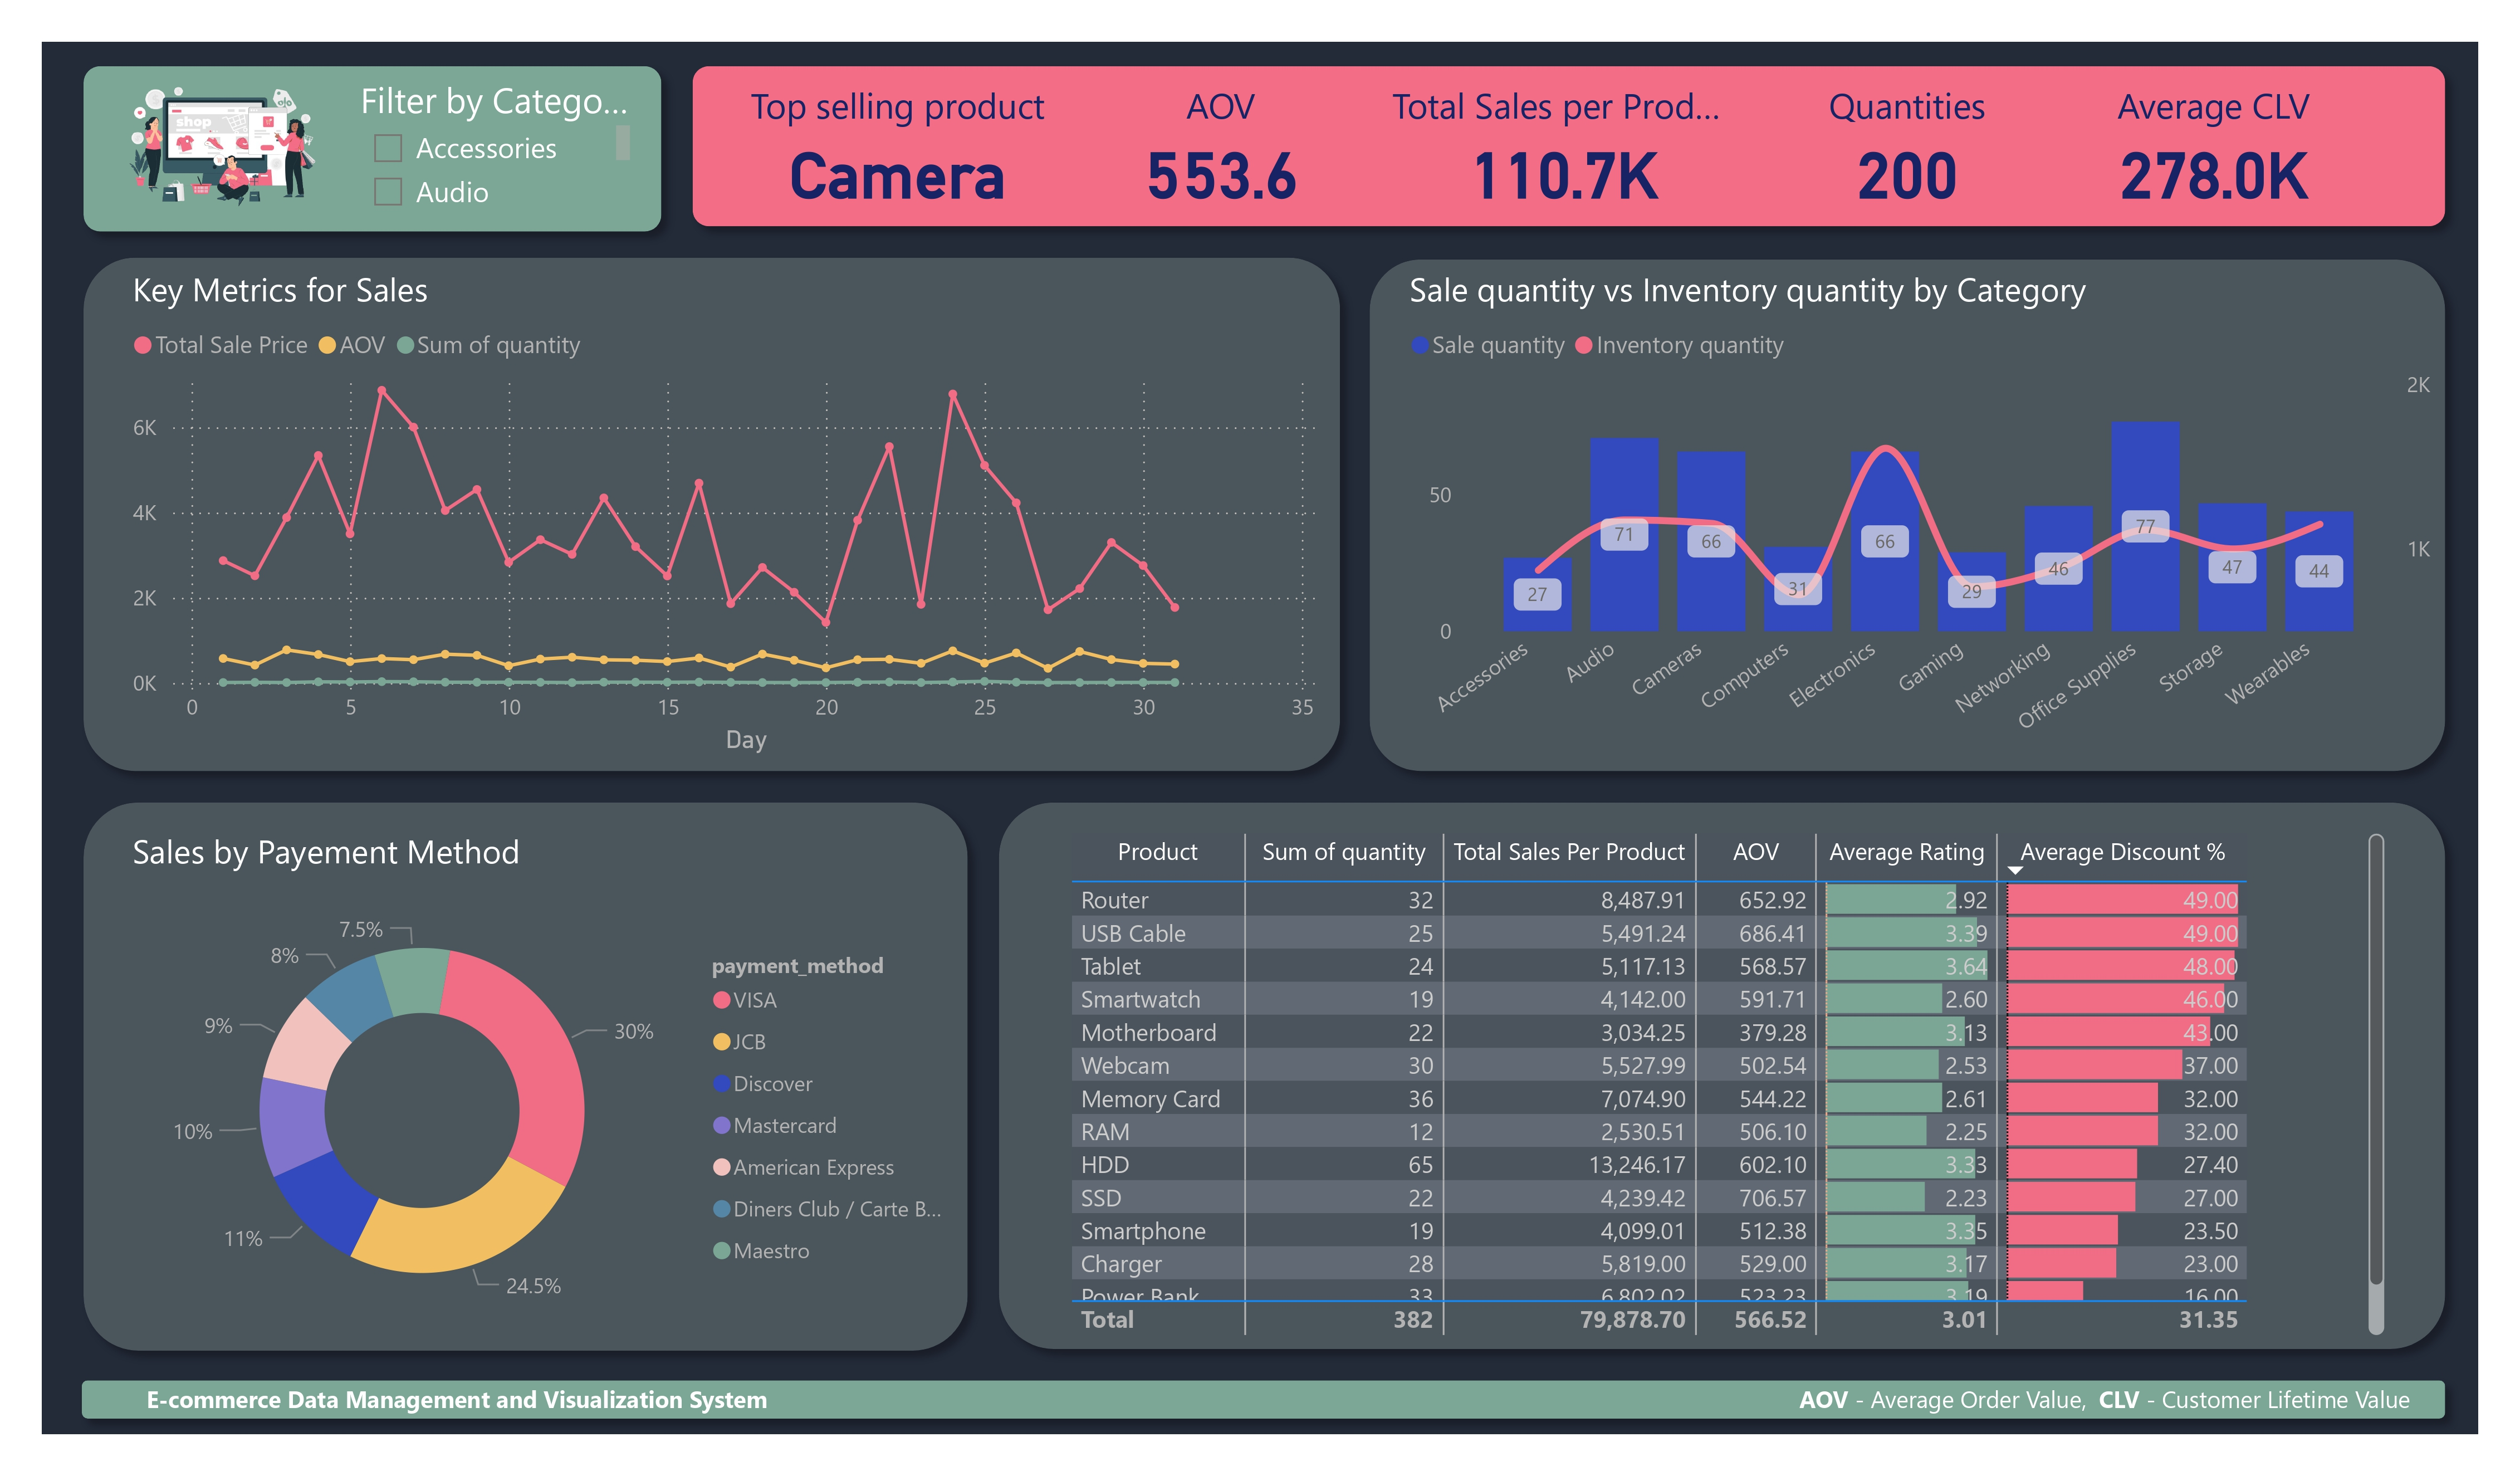

The dashboard page shown, as its layout file describes it:
{"tool":"powerbi","page":{"name":"E Commerce Dashboard","canvas":[1400,800],"ordinal":0},"visuals":[{"type":"shape","box":[541.1,427.7,848.9,332.2],"z":0},{"type":"shape","box":[15,427.5,526.2,333.8],"z":1000},{"type":"shape","box":[15,115,740,312.5],"z":2000},{"type":"shape","box":[754.4,115.6,635.6,312.2],"z":3000},{"type":"shape","box":[15,5,350,112.5],"z":4000},{"type":"shape","box":[365,5,1025,110],"z":5000},{"type":"card","title":"AOV","fields":{"Values":["Measures data.AOV"]},"box":[574.4,22.2,206.7,83.3],"z":6000},{"type":"lineStackedColumnComboChart","title":"Sale quantity  vs Inventory quantity by Category","fields":{"Y":["Sum(Sales.quantity)"],"Y2":["Sum(Inventory.quantity_received)"],"Category":["Products.category","Products.product_name"]},"box":[781.1,128.9,596.7,285.6],"z":7000},{"type":"lineChart","title":"Key Metrics for Sales","fields":{"Y":["Sum(Sales.total_price)","Measures data.AOV","Sum(Sales.quantity)"],"Category":["Sales.date.Variation.Date Hierarchy.Year","Sales.date.Variation.Date Hierarchy.Quarter","Sales.date.Variation.Date Hierarchy.Month","Sales.date.Variation.Date Hierarchy.Day"]},"box":[46.7,128.9,692.2,285.6],"z":8000},{"type":"card","title":"Total Sales per Product","fields":{"Values":["Measures data.Total Sales per Product"]},"box":[771.1,22.2,206.7,83.3],"z":9000},{"type":"tableEx","fields":{"Values":["Products.product_name","Sum(Sales.quantity)","Measures data.Total Sales per Product","Measures data.AOV","Avg(Reviews.rating)","Avg(Promotions.discount_percentage)"]},"box":[585.6,449.9,765.6,297.8],"z":10000},{"type":"card","title":"Quantities","fields":{"Values":["CountNonNull(Sales.sales_id)"]},"box":[1004.4,22.2,135.6,83.3],"z":11000},{"type":"card","title":"Top selling product","fields":{"Values":["Measures data.Top Selling Product"]},"box":[372.2,22.2,240,83.3],"z":12000},{"type":"slicer","title":"Filter by  Category","fields":{"Values":["Products.category"]},"box":[177.8,18.9,165.6,83.3],"z":13000},{"type":"donutChart","title":"Sales by Payement Method","fields":{"Category":["Sales.payment_method"],"Y":["CountNonNull(Sales.sales_id)"]},"box":[46.7,452.1,486.7,298.9],"z":14000},{"type":"card","title":"Average CLV","fields":{"Values":["Measures data.Average CLV"]},"box":[1154.4,22.2,187.8,83.3],"z":15000},{"type":"image","box":[42.2,0,122.2,118.9],"z":16000},{"type":"shape","box":[14.4,760,1375.6,40],"z":17000},{"type":"textbox","box":[1005,766,373,28],"z":18000},{"type":"textbox","box":[55,766,578,28],"z":18001}]}

Visuals, with their boxes in screenshot pixels (x1, y1, x2, y2):
shape: Rect(983, 786, 2461, 1365)
shape: Rect(68, 786, 983, 1367)
shape: Rect(68, 242, 1356, 786)
shape: Rect(1354, 243, 2461, 786)
shape: Rect(68, 51, 677, 246)
shape: Rect(677, 51, 2461, 242)
"AOV" card: Rect(1041, 80, 1401, 226)
"Sale quantity  vs Inventory quantity by Category" lineStackedColumnComboChart: Rect(1401, 266, 2440, 763)
"Key Metrics for Sales" lineChart: Rect(123, 266, 1328, 763)
"Total Sales per Product" card: Rect(1384, 80, 1744, 226)
tableEx - Products.product_name x Sum(Sales.quantity): Rect(1061, 825, 2394, 1343)
"Quantities" card: Rect(1790, 80, 2026, 226)
"Top selling product" card: Rect(689, 80, 1107, 226)
"Filter by  Category" slicer: Rect(351, 75, 639, 219)
"Sales by Payement Method" donutChart: Rect(123, 829, 970, 1349)
"Average CLV" card: Rect(2051, 80, 2377, 226)
image: Rect(115, 42, 328, 249)
shape: Rect(67, 1365, 2461, 1434)
textbox: Rect(1791, 1375, 2440, 1424)
textbox: Rect(138, 1375, 1143, 1424)
